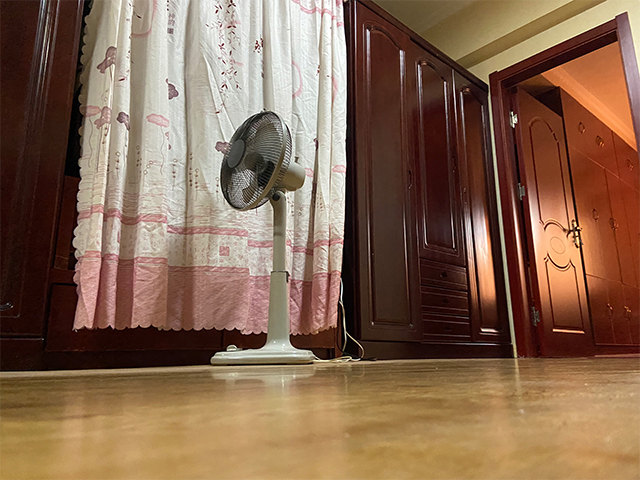cabinet: (346, 1, 512, 370)
curtain: (76, 1, 347, 338)
wire: (312, 278, 366, 364)
